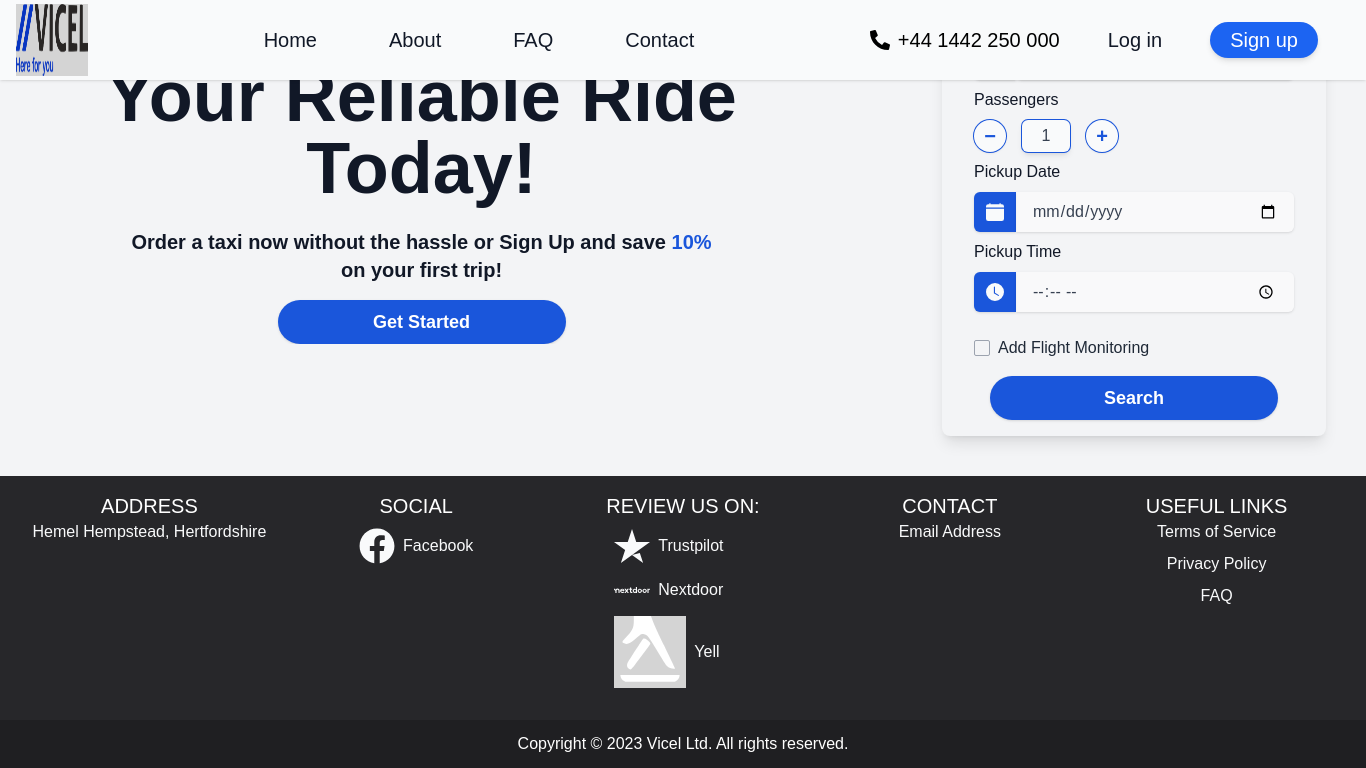
Test: Form › should not submit the form when the input field is empty
(page scrolled)
Click the button "Search" at (1134, 398), box x1=990 y1=376 x2=1278 y2=420
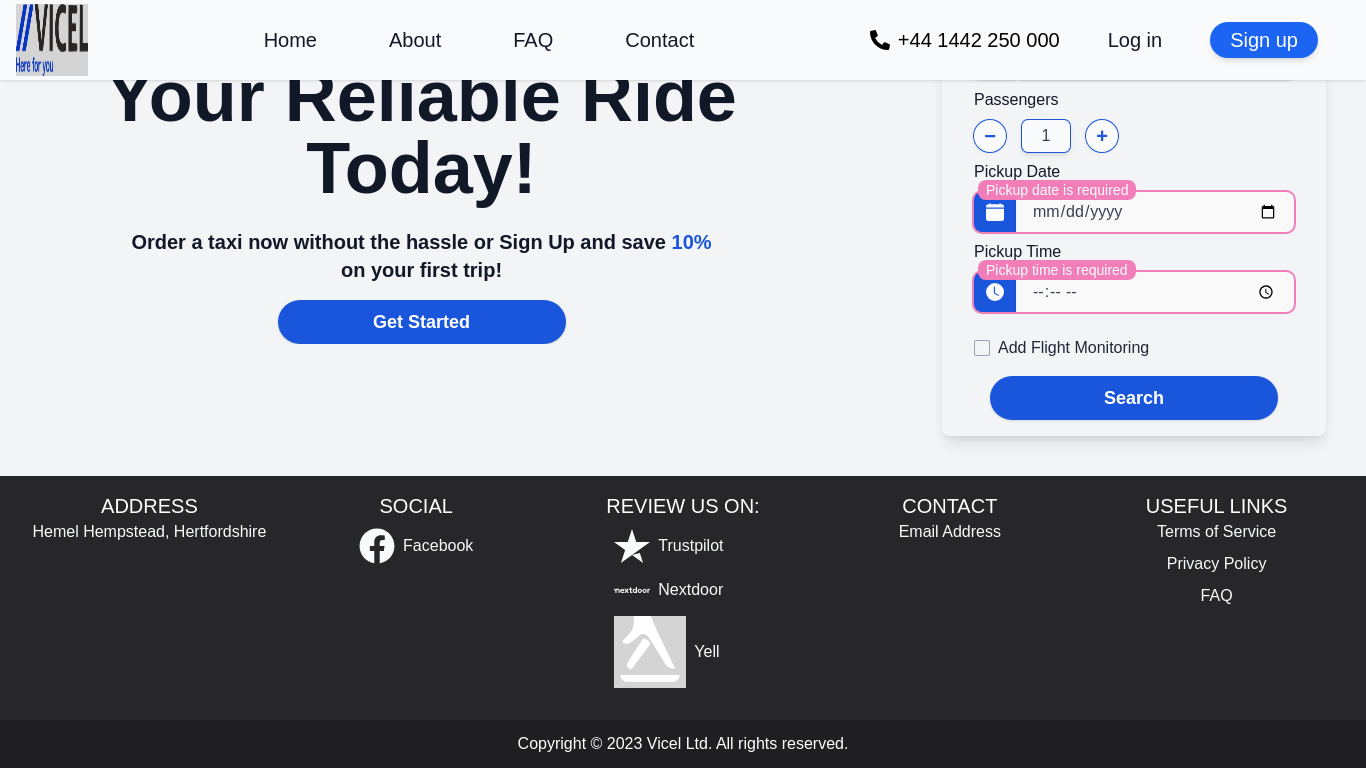
Now the text "Pickup date is required" is shown, box x1=978 y1=180 x2=1136 y2=200
